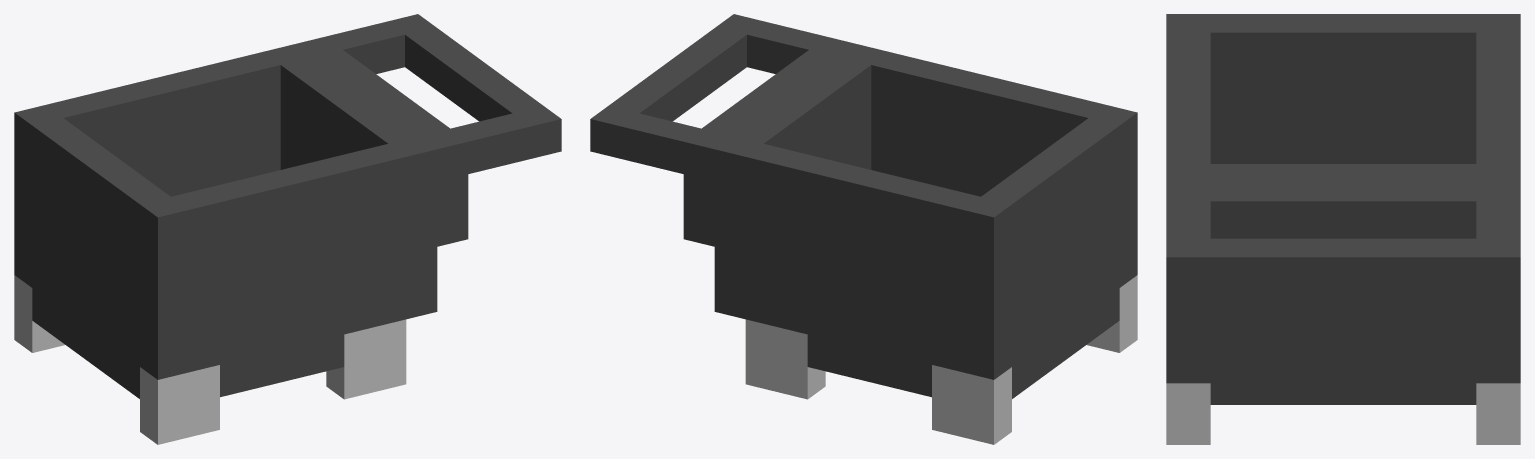
File: MiningCart.obj
3 views of the same model, side by side, from view 1: azimuth 30°, elevation 25°; view 2: azimuth 150°, elevation 25°; view 3: azimuth 270°, elevation 25° (orthographic). The views are drawn at different scales.
Bounding box in the file's own units: 1.3 × 0.7 × 0.8.
Materials: 1 (1 with a texture image).
